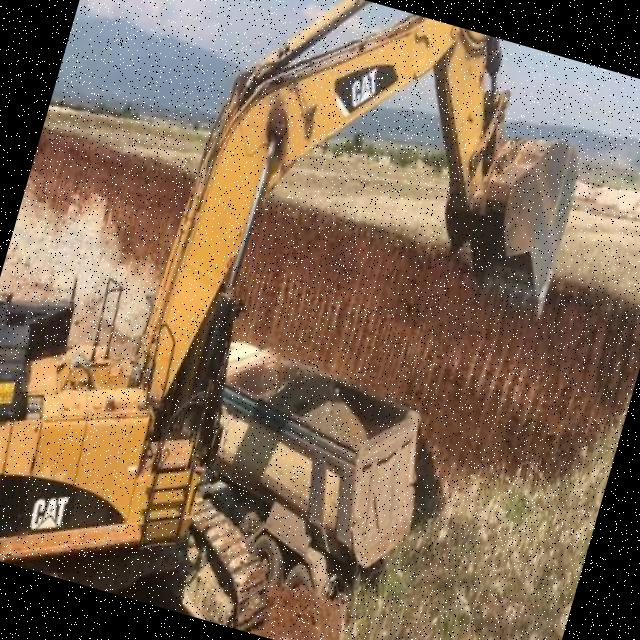Dump Truck: (163, 330, 445, 602)
Excavator: (0, 0, 613, 640)
